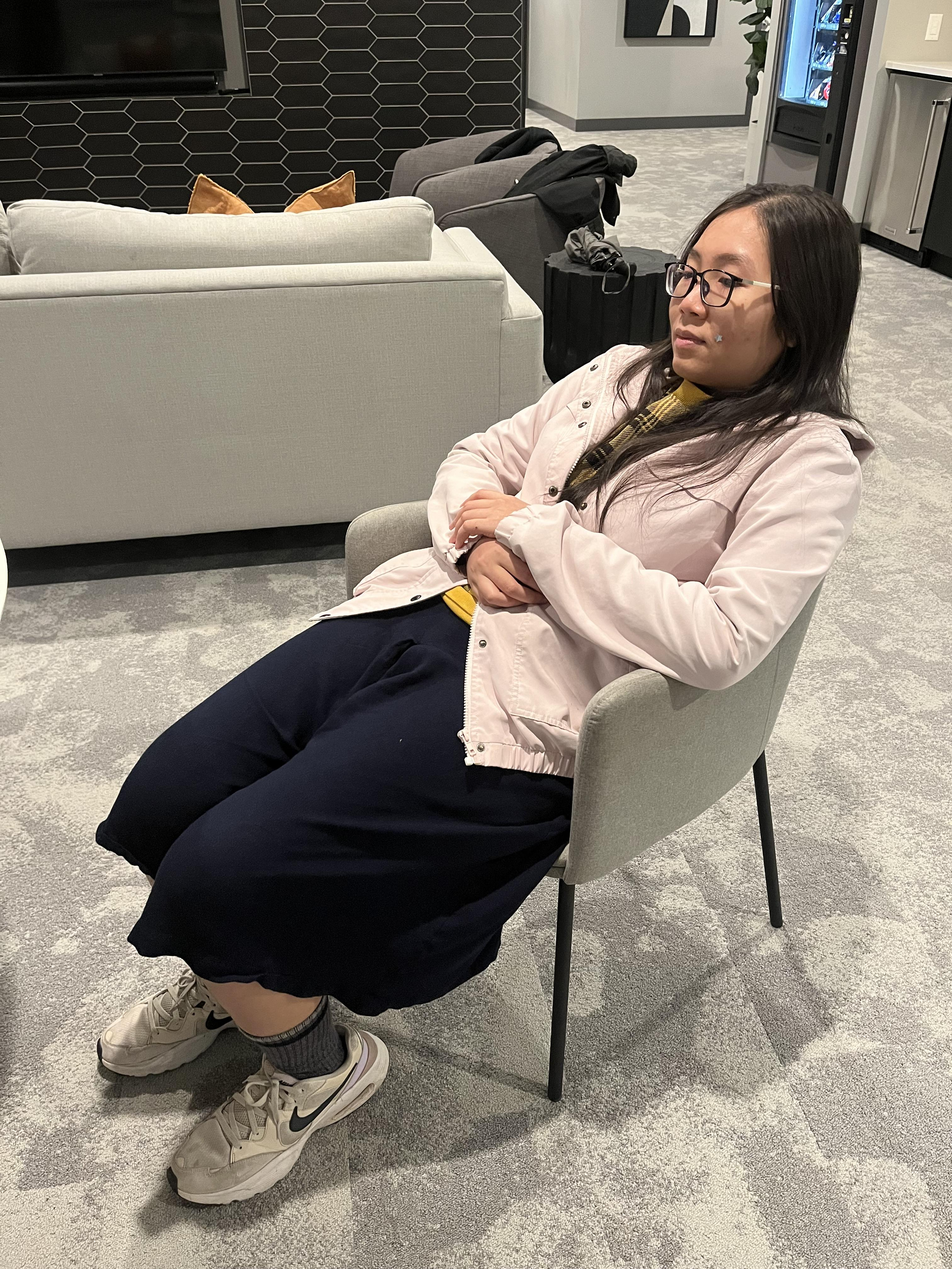BadPosture: (92, 183, 869, 1207)
